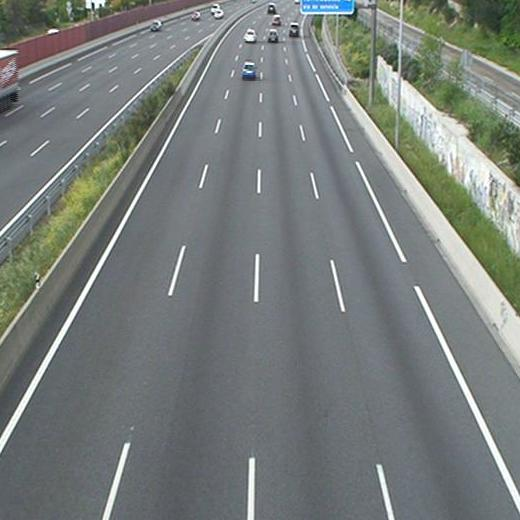car: (241, 61, 256, 80), (288, 22, 300, 38), (243, 29, 257, 41), (266, 30, 278, 43)
